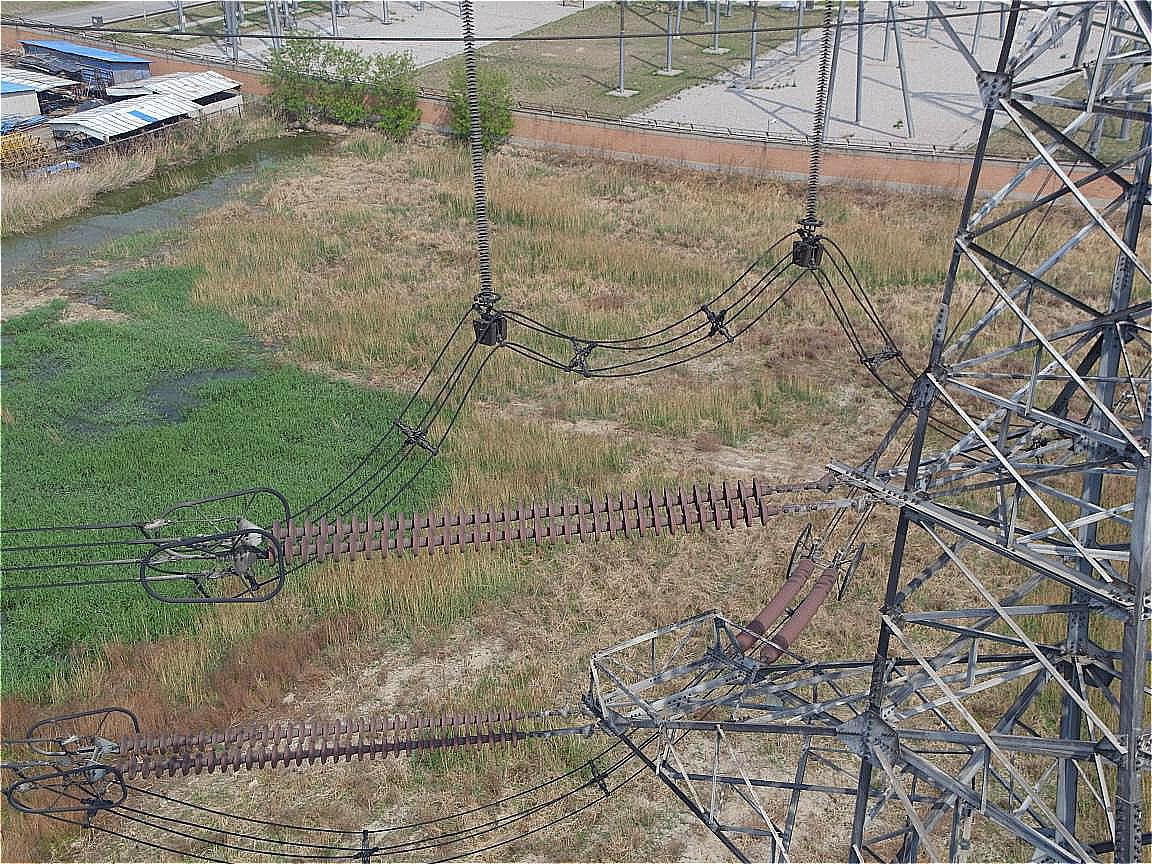insultor1: (267, 477, 773, 568), (114, 702, 525, 782)
